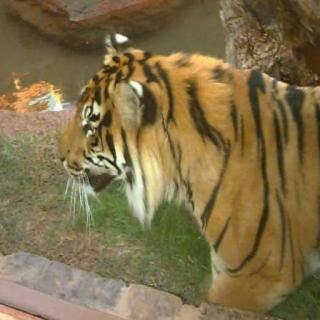Tiger: (52, 22, 320, 320)
